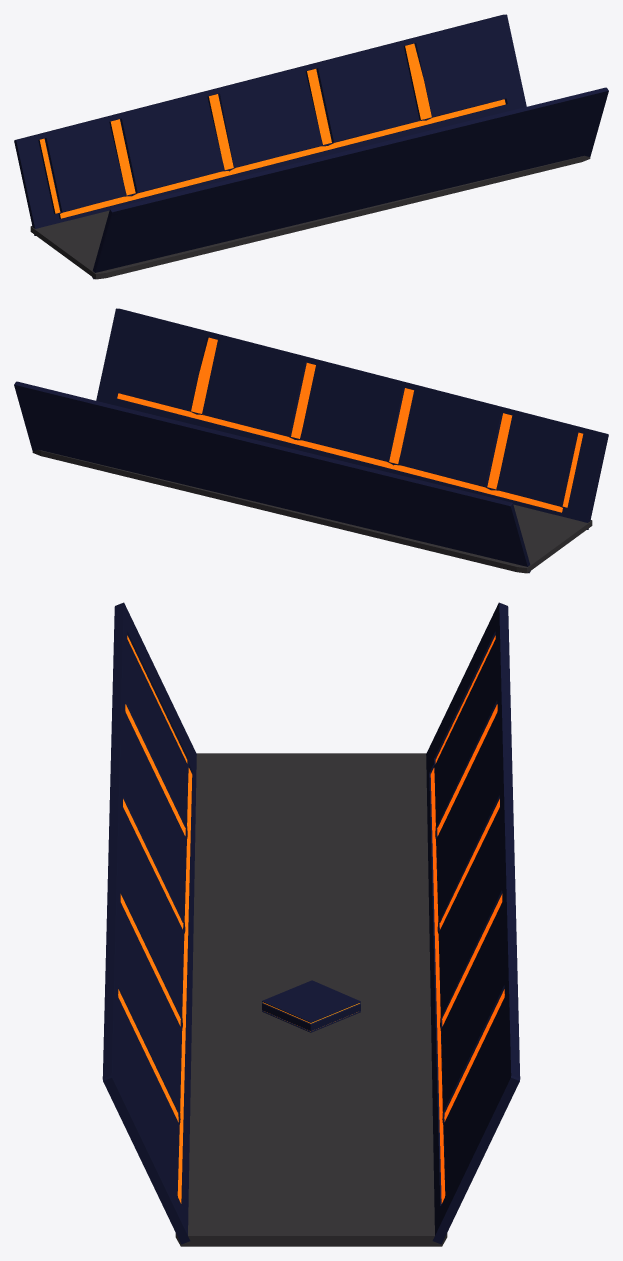
The model's file is Sci-Fi Background.fbx.
3 views of the same model, one above another, from view 1: azimuth 30°, elevation 25°; view 2: azimuth 150°, elevation 25°; view 3: azimuth 270°, elevation 25° (orthographic). The views are drawn at different scales.
Parts seen in each view (by area): view 1: Wall, Base; view 2: Wall, Base; view 3: Base, Wall, Table.
Boxes of the visible parts, x1,y1,x2,y2 form: Wall: [14, 14, 608, 279]; Base: [30, 155, 590, 279]; Wall: [14, 308, 608, 573]; Base: [32, 449, 592, 573]; Base: [175, 753, 447, 1246]; Wall: [102, 602, 520, 1244]; Table: [262, 980, 360, 1032].
Bounding box in the file's own units: 3240 × 544 × 1184.
